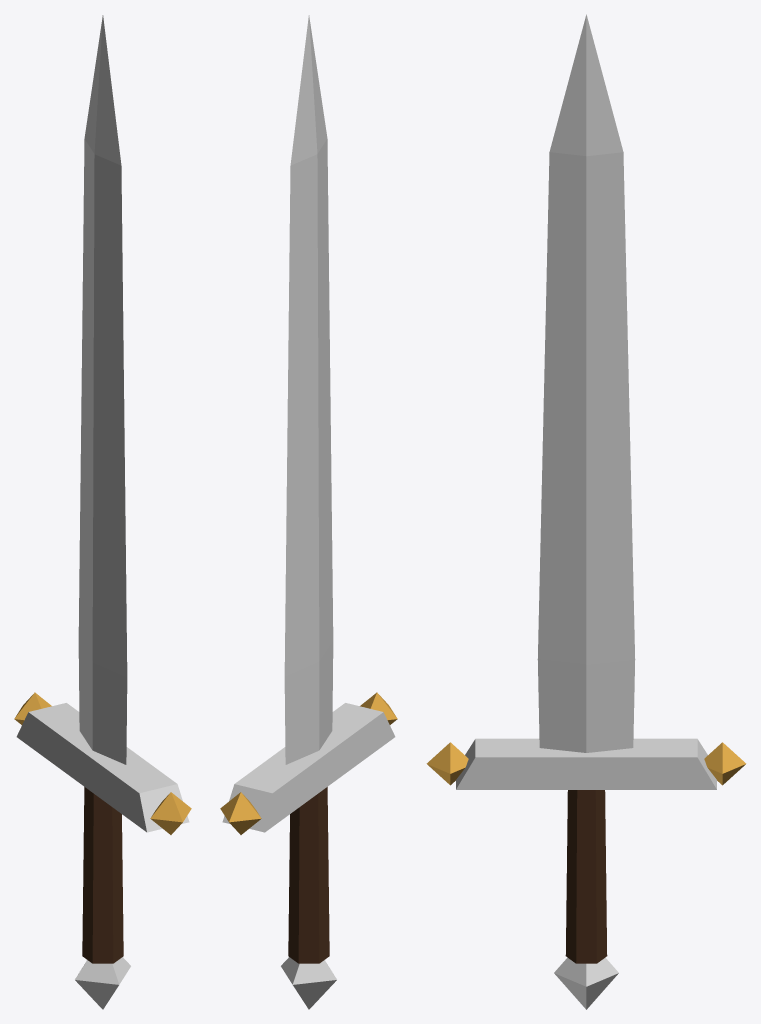
File: weapon_sword.glb
The picture shows the model from 3 angles, left to right: view 1: azimuth 30°, elevation 25°; view 2: azimuth 150°, elevation 25°; view 3: azimuth 270°, elevation 25°; orthographic projection.
Visible parts, largest first — view 1: weapon_sword; view 2: weapon_sword; view 3: weapon_sword.
Part boxes in pixels (x1,y1,x2,y2): weapon_sword: (14,15,191,1009); weapon_sword: (220,15,397,1009); weapon_sword: (426,14,746,1009).
Bounding box in the file's own units: 0.06 × 1.01 × 0.294.
